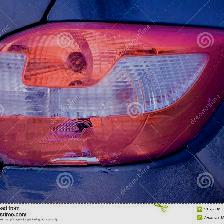tail_lamp: (49, 114, 98, 146)
